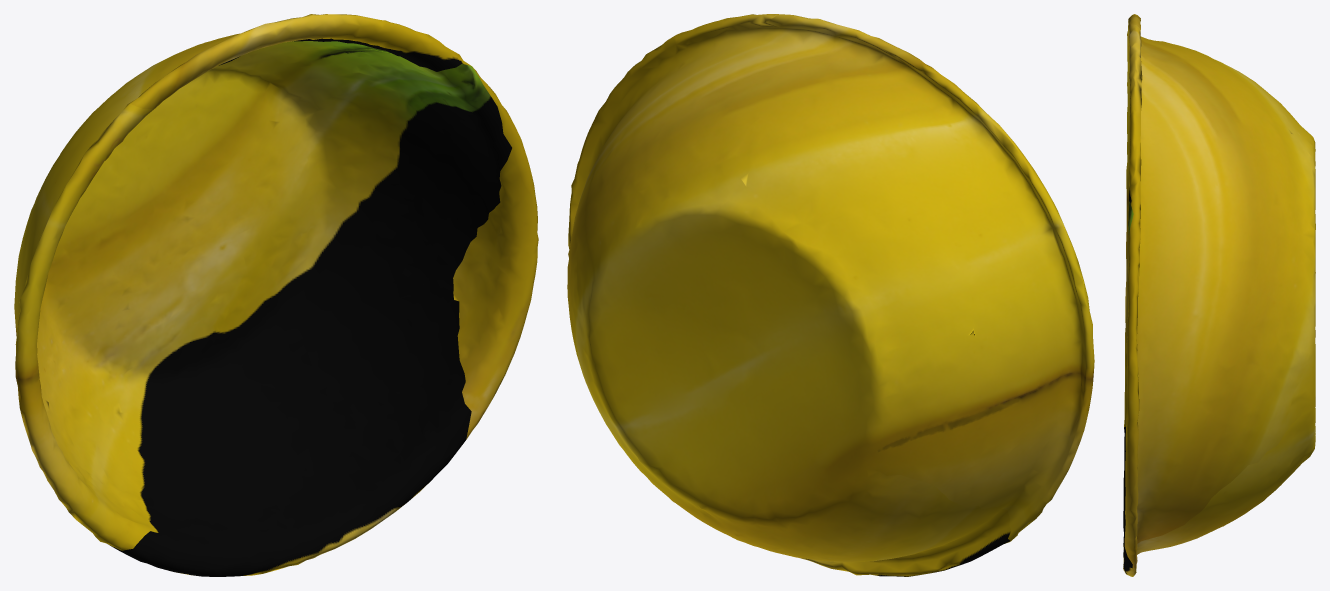
File: model_com.obj
The picture shows the model from 3 angles, left to right: view 1: azimuth 30°, elevation 25°; view 2: azimuth 150°, elevation 25°; view 3: azimuth 270°, elevation 25°; orthographic projection. The views are drawn at different scales.
Size of the model in its own units: 0.1615 by 0.1612 by 0.055.
